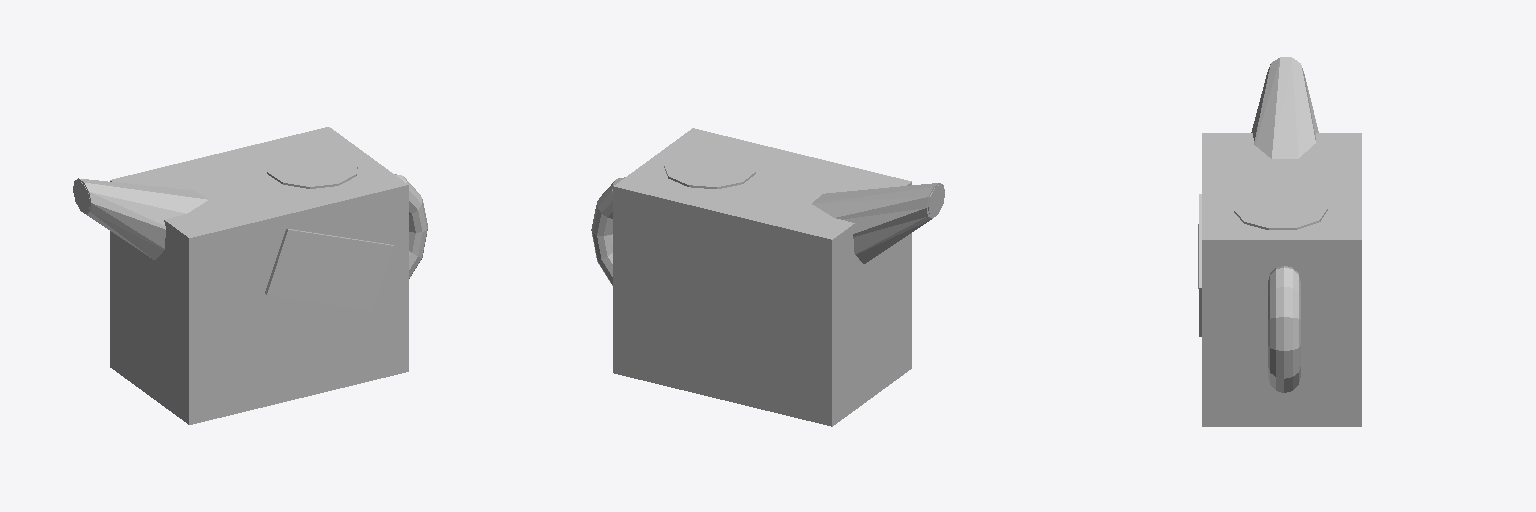
The model's file is FuelCan.obj.
3 renders of one model, left to right at view 1: azimuth 30°, elevation 25°; view 2: azimuth 150°, elevation 25°; view 3: azimuth 270°, elevation 25°, orthographic.
Visible parts, largest first — view 1: group[number redacted]; view 2: group[number redacted]; view 3: group[number redacted].
Boxes of the visible parts, x1=… form: group[number redacted]: x1=73, y1=127, x2=427, y2=424; group[number redacted]: x1=591, y1=128, x2=944, y2=426; group[number redacted]: x1=1198, y1=57, x2=1361, y2=426.
Size of the model in its own units: 0.8472 by 0.5423 by 0.3488.